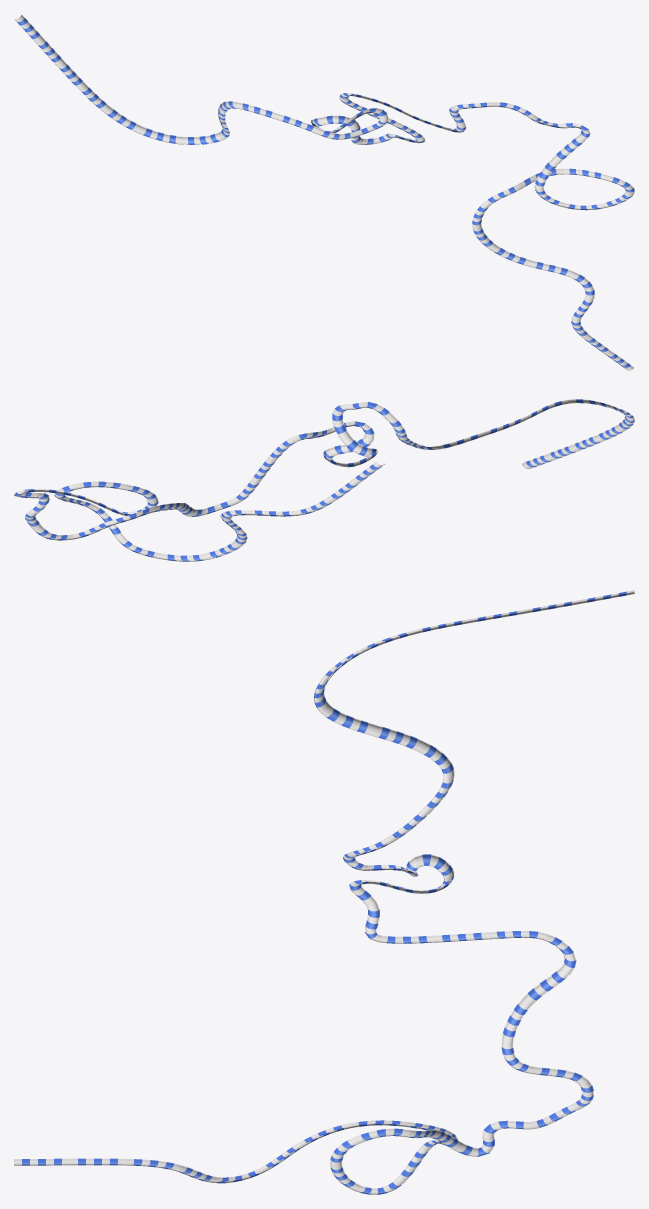
Rendered from _lider2.fbx.
3 renders of one model, top to bottom at view 1: azimuth 30°, elevation 25°; view 2: azimuth 150°, elevation 25°; view 3: azimuth 270°, elevation 25°, orthographic. The views are drawn at different scales.
Parts seen in each view (by area): view 1: Kaydırak2; view 2: Kaydırak2; view 3: Kaydırak2.
Boxes of the visible parts, bbox=[...] form: Kaydırak2: bbox=[14, 14, 634, 370]; Kaydırak2: bbox=[14, 399, 634, 561]; Kaydırak2: bbox=[14, 590, 634, 1194].
Size of the model in its own units: 3219 by 1597 by 2613.
